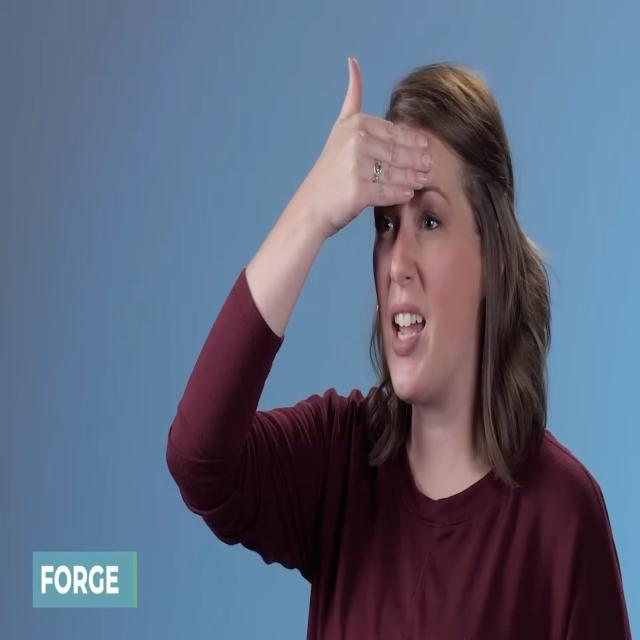forget: (295, 46, 489, 254)
